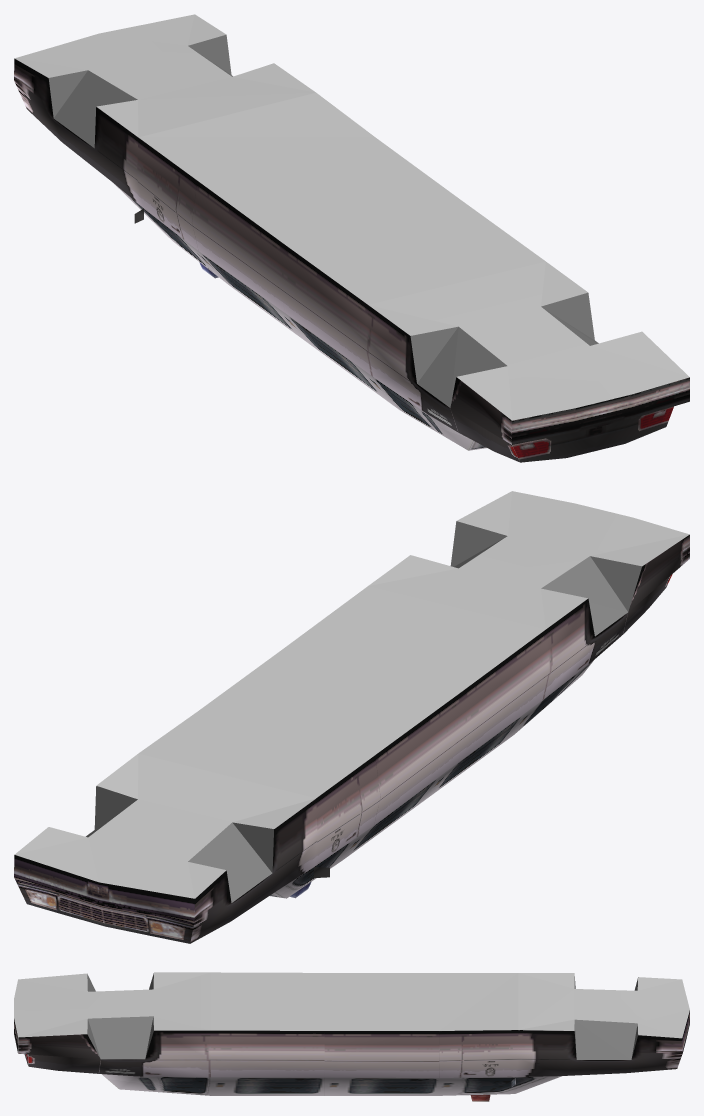
File: VEGAS_model8_clean.obj
The picture shows the model from 3 angles, top to bottom: view 1: azimuth 30°, elevation 25°; view 2: azimuth 150°, elevation 25°; view 3: azimuth 270°, elevation 25°; orthographic projection. The views are drawn at different scales.
Parts seen in each view (by area): view 1: VEGAS_model8_clean_set4_id7_ft, VEGAS_model8_clean_set18_id16, VEGAS_model8_clean_flat, VEGAS_model8_clean_set18_id18, VEGAS_model8_clean_set18_id12, VEGAS_model8_clean_set18_id5, VEGAS_model8_clean_set18_id14, VEGAS_model8_clean_set18_id4, VEGAS_model8_clean_set19_id4, VEGAS_model8_clean_set19_id1, VEGAS_model8_clean_set19_id7, VEGAS_model8_clean_set19_id3; view 2: VEGAS_model8_clean_set4_id7_ft, VEGAS_model8_clean_set18_id16, VEGAS_model8_clean_flat, VEGAS_model8_clean_set18_id18, VEGAS_model8_clean_set18_id14, VEGAS_model8_clean_set18_id0, VEGAS_model8_clean_set18_id12, VEGAS_model8_clean_set18_id1, VEGAS_model8_clean_set19_id1, VEGAS_model8_clean_set19_id4, VEGAS_model8_clean_set19_id3; view 3: VEGAS_model8_clean_set4_id7_ft, VEGAS_model8_clean_set18_id16, VEGAS_model8_clean_set18_id18, VEGAS_model8_clean_flat, VEGAS_model8_clean_set19_id1, VEGAS_model8_clean_set18_id14, VEGAS_model8_clean_set18_id12, VEGAS_model8_clean_set19_id4, VEGAS_model8_clean_set19_id3, VEGAS_model8_clean_set19_id7.
Part boxes in pixels (<box>): VEGAS_model8_clean_set4_id7_ft: <box>15,14,689,420</box>; VEGAS_model8_clean_set18_id16: <box>192,181,370,374</box>; VEGAS_model8_clean_flat: <box>48,34,598,407</box>; VEGAS_model8_clean_set18_id18: <box>14,58,143,207</box>; VEGAS_model8_clean_set18_id12: <box>365,305,458,432</box>; VEGAS_model8_clean_set18_id5: <box>512,401,603,462</box>; VEGAS_model8_clean_set18_id14: <box>137,137,198,250</box>; VEGAS_model8_clean_set18_id4: <box>596,377,689,450</box>; VEGAS_model8_clean_set19_id4: <box>450,377,519,462</box>; VEGAS_model8_clean_set19_id1: <box>200,252,398,409</box>; VEGAS_model8_clean_set19_id7: <box>372,376,473,450</box>; VEGAS_model8_clean_set19_id3: <box>113,183,228,284</box>; VEGAS_model8_clean_set4_id7_ft: <box>14,491,689,898</box>; VEGAS_model8_clean_set18_id16: <box>374,629,548,825</box>; VEGAS_model8_clean_flat: <box>86,521,641,902</box>; VEGAS_model8_clean_set18_id18: <box>190,798,317,943</box>; VEGAS_model8_clean_set18_id14: <box>314,755,380,866</box>; VEGAS_model8_clean_set18_id0: <box>99,882,194,943</box>; VEGAS_model8_clean_set18_id12: <box>542,598,627,699</box>; VEGAS_model8_clean_set18_id1: <box>14,855,104,926</box>; VEGAS_model8_clean_set19_id1: <box>344,701,541,858</box>; VEGAS_model8_clean_set19_id4: <box>623,534,689,633</box>; VEGAS_model8_clean_set19_id3: <box>276,826,373,898</box>; VEGAS_model8_clean_set4_id7_ft: <box>14,972,689,1038</box>; VEGAS_model8_clean_set18_id16: <box>211,1030,439,1077</box>; VEGAS_model8_clean_set18_id18: <box>516,1030,682,1076</box>; VEGAS_model8_clean_flat: <box>87,973,638,1059</box>; VEGAS_model8_clean_set19_id1: <box>211,1077,439,1095</box>; VEGAS_model8_clean_set18_id14: <box>439,1030,518,1077</box>; VEGAS_model8_clean_set18_id12: <box>98,1030,210,1077</box>; VEGAS_model8_clean_set19_id4: <box>18,1034,100,1073</box>; VEGAS_model8_clean_set19_id3: <box>439,1076,561,1095</box>; VEGAS_model8_clean_set19_id7: <box>101,1074,210,1095</box>.
Bounding box in the file's own units: 294 × 184 × 1318.
Materials: 20 (18 with a texture image).
